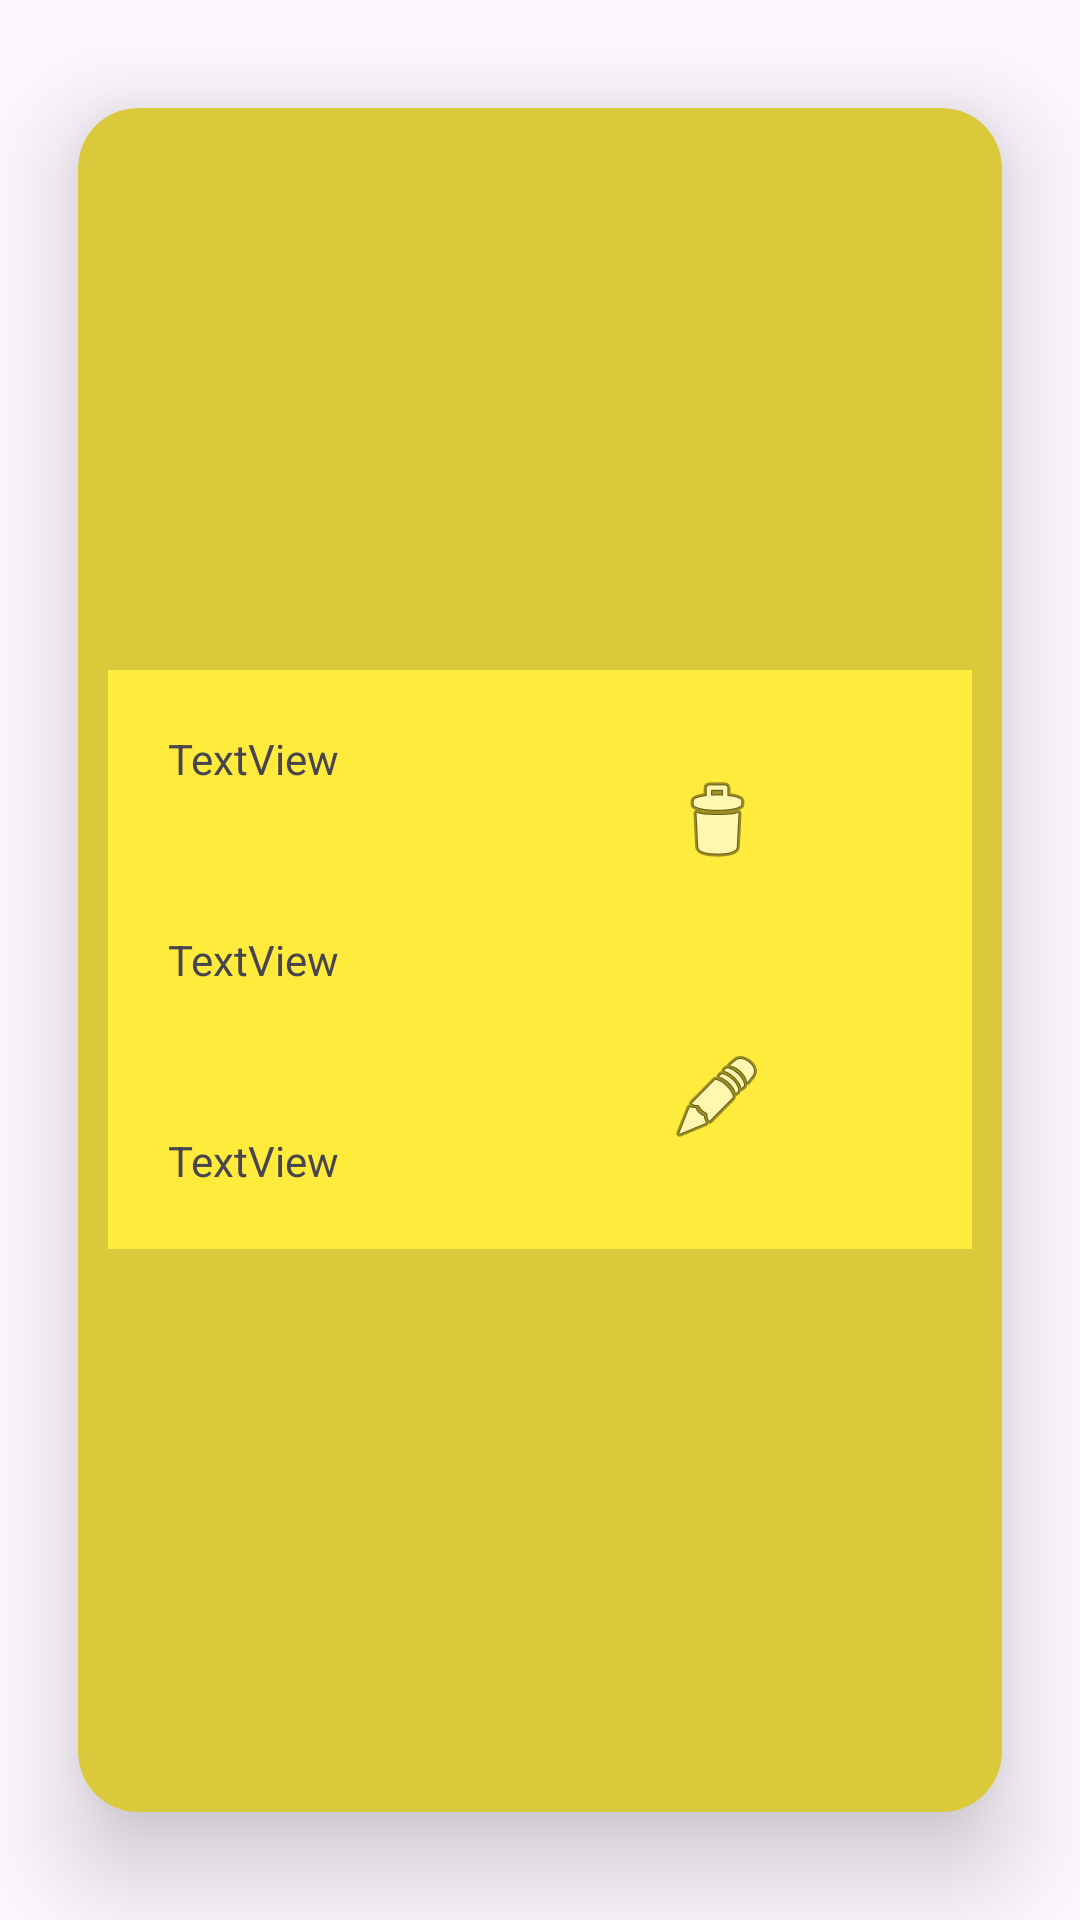

Screen size 1080px×1920px. Icon name, then its box in pixels as (x1, y1, x2, y2):
delete: (690, 782, 745, 857)
edit: (676, 1056, 757, 1137)
